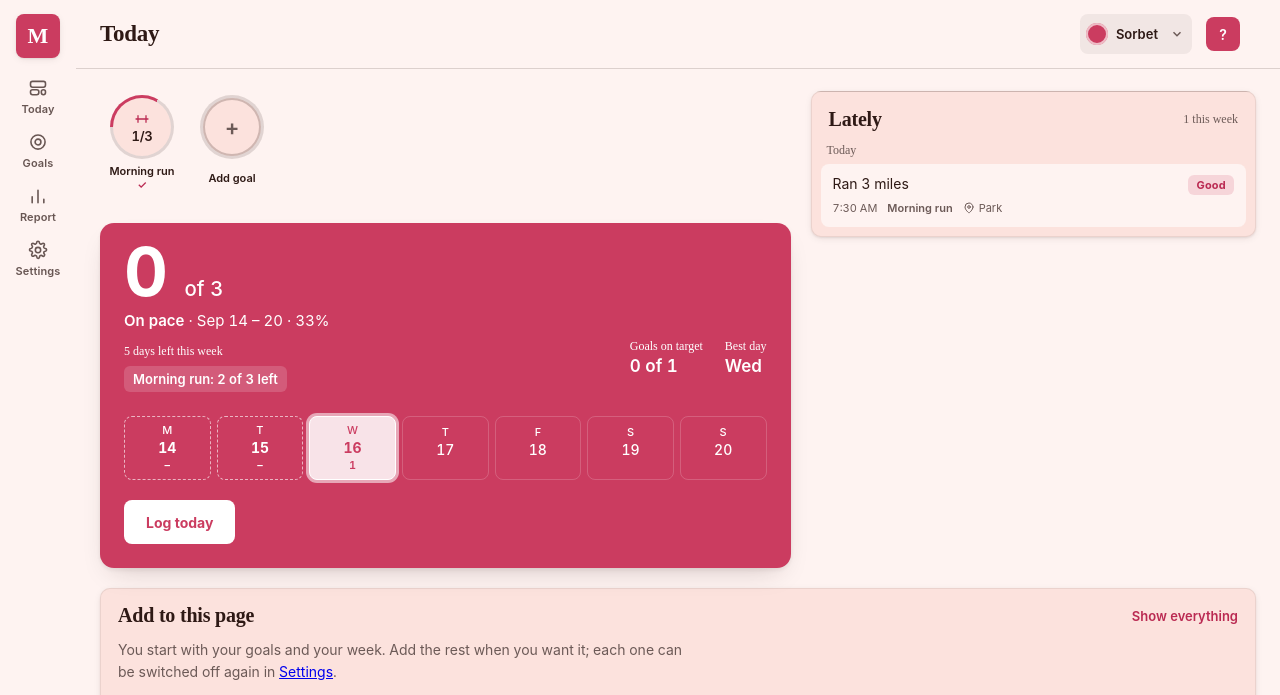
Scenario: Dashboard taking back an entry › does not log a goal twice from its ring, and offers the form for a note
The width and height of the screenshot is (1280, 695).
Click the button named "Done today". click: (142, 143)
box: [104,93,180,192]
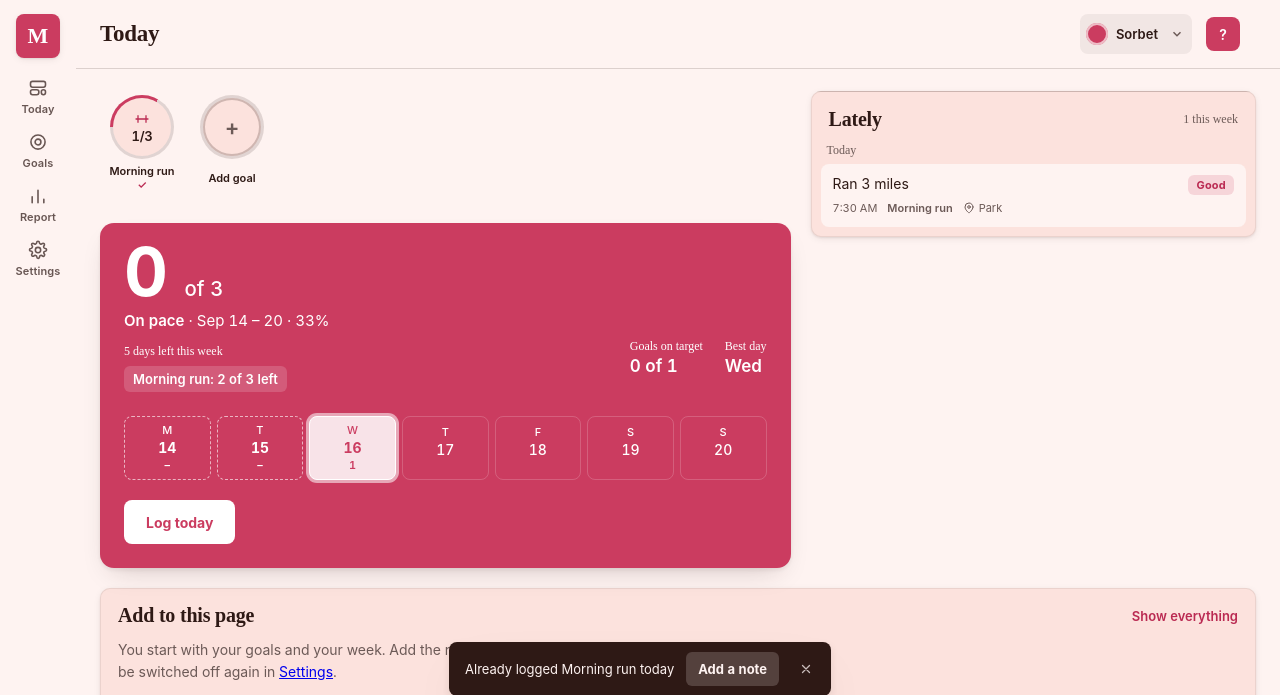
Check: the text "Already logged Morning run today" is shown, box [465,660,674,678]
Click the button "Add a note". click: (733, 669)
box: [686,652,779,686]
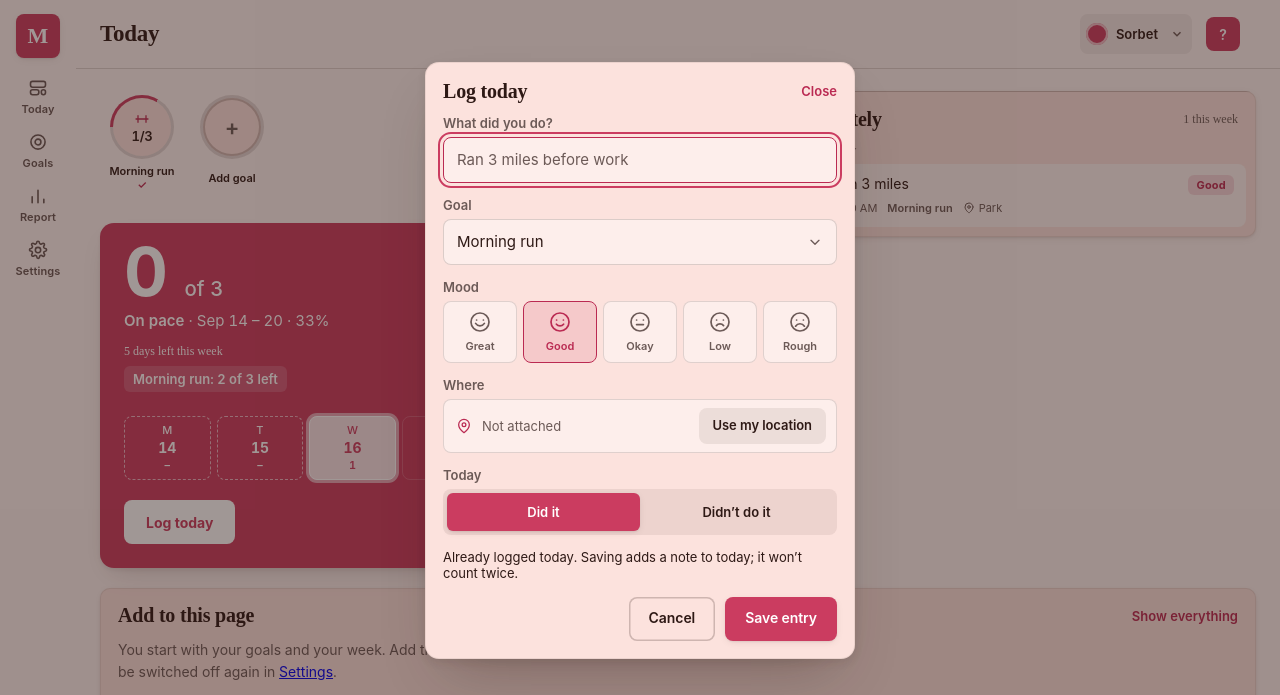
Check: the dialog "Log today" is shown, box [425,62,855,658]
Check: the text "Already logged today" is shown, box [443,548,802,580]
